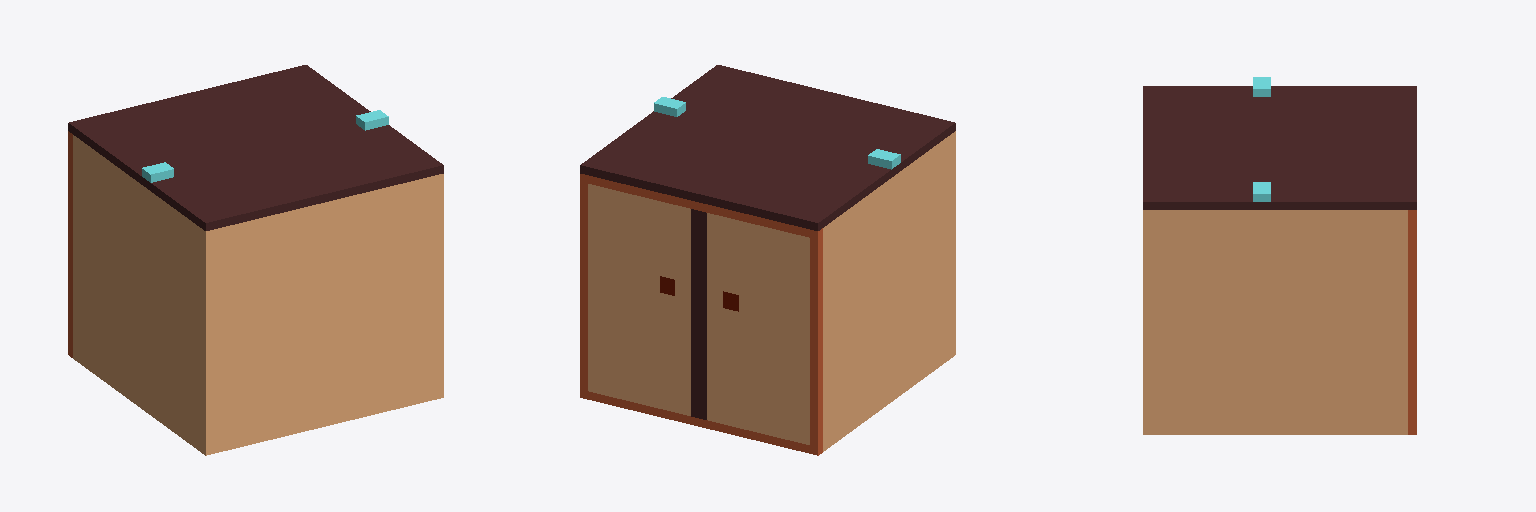
3 views of the same model, side by side, from view 1: azimuth 30°, elevation 25°; view 2: azimuth 150°, elevation 25°; view 3: azimuth 270°, elevation 25° (orthographic).
Parts seen in each view (by area): view 1: object 1; view 2: object 1; view 3: object 1.
Boxes of the visible parts, x1=… form: object 1: x1=68, y1=65, x2=443, y2=455; object 1: x1=580, y1=65, x2=955, y2=455; object 1: x1=1143, y1=77, x2=1416, y2=434.
Size of the model in its own units: 3 by 2.9 by 3.
Materials: 1 (1 with a texture image).